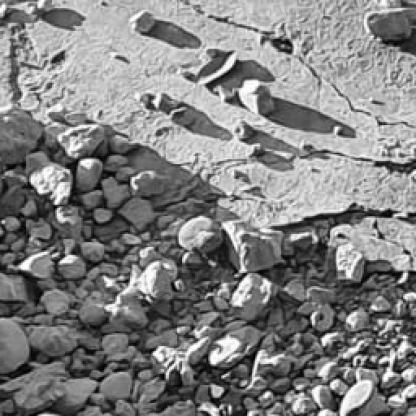cementitious_debris: (3, 122, 413, 414)
